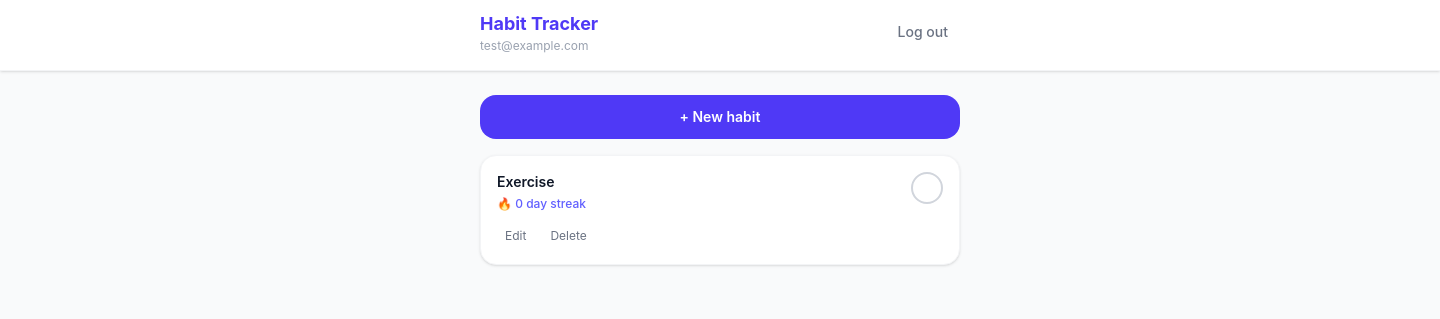
Test case: habit form › deletes a habit only after explicit confirmation
Expected: the element with test id "habit-card-exercise" is shown, [480,155,960,265]
Click delete — should ask for confirmation, not delete yet
Click the button with test id "habit-delete-exercise" at (569, 236), box [542,224,595,248]
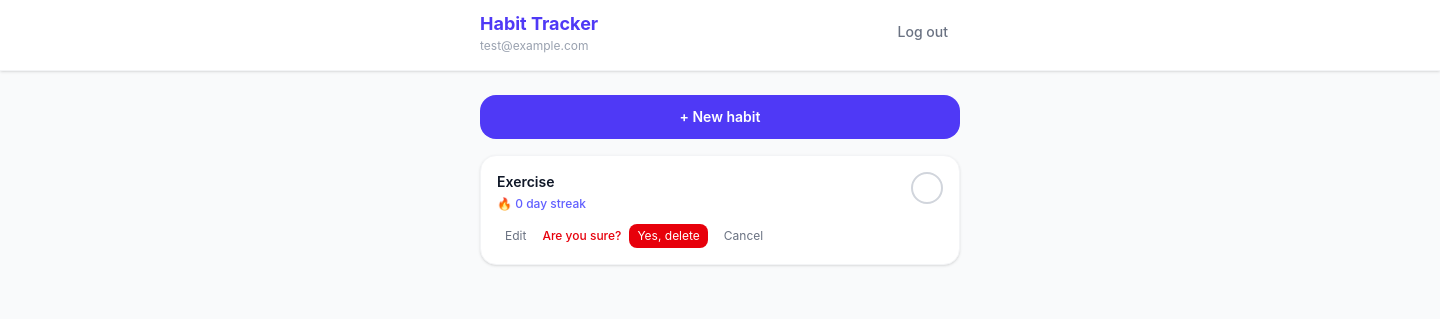
Expected: the element with test id "habit-card-exercise" is shown, [480,155,960,265]
Confirm deletion
Click the button with test id "confirm-delete-button" at (669, 236), box [629,224,708,248]
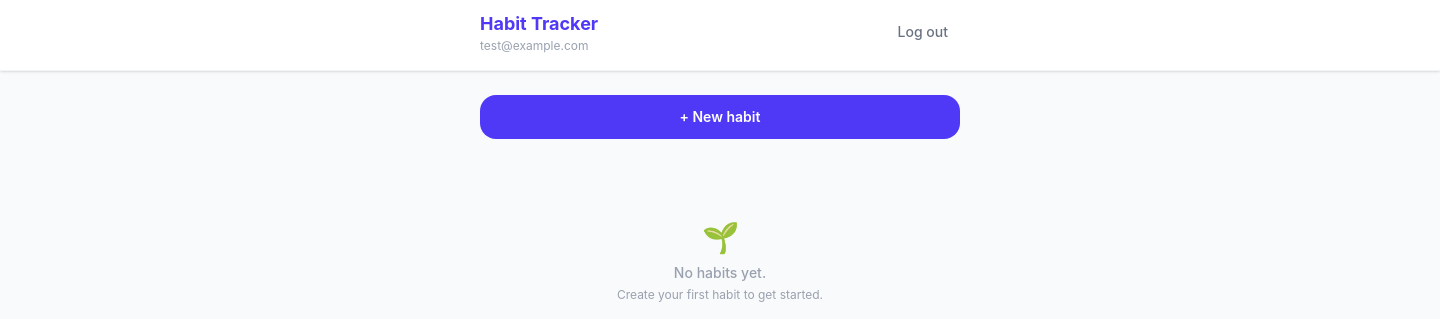
Result: the element with test id "habit-card-exercise" is gone
